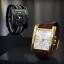watch: (31, 24, 57, 53), (9, 7, 31, 28)
